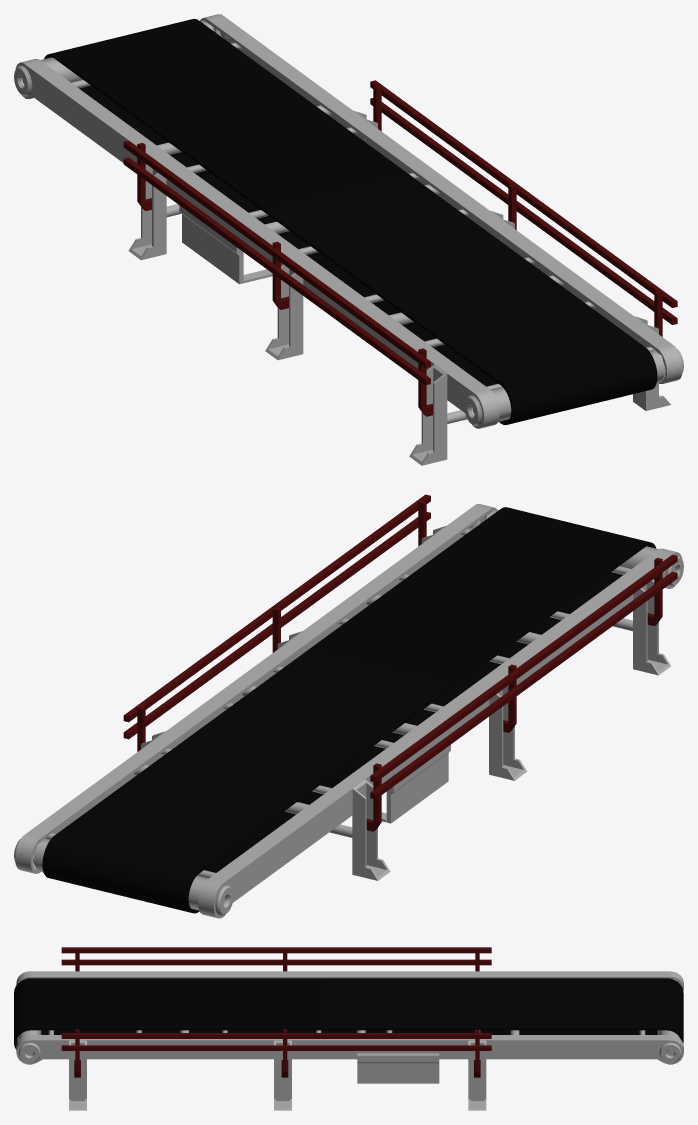
Rendered from SM_ProdLine_transporter_g.FBX.
3 renders of one model, top to bottom at view 1: azimuth 30°, elevation 25°; view 2: azimuth 150°, elevation 25°; view 3: azimuth 270°, elevation 25°, orthographic. The views are drawn at different scales.
Visible parts, largest first — view 1: SM_ProdLine_transporter_g_LOD0; view 2: SM_ProdLine_transporter_g_LOD0; view 3: SM_ProdLine_transporter_g_LOD0.
Part boxes in pixels (bbox=[...]): SM_ProdLine_transporter_g_LOD0: bbox=[14, 14, 683, 465]; SM_ProdLine_transporter_g_LOD0: bbox=[14, 494, 683, 918]; SM_ProdLine_transporter_g_LOD0: bbox=[14, 947, 683, 1110].
Bounding box in the file's own units: 151 × 488 × 62.67.
